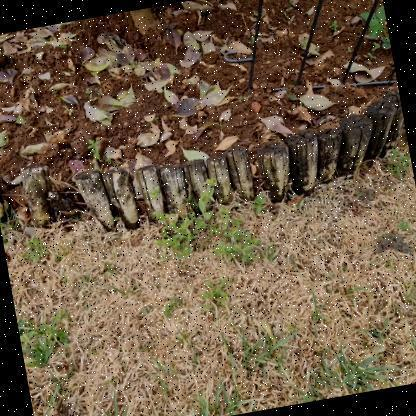Weeds: (144, 169, 263, 279), (17, 313, 72, 353), (196, 276, 231, 307), (382, 147, 413, 179), (363, 4, 389, 41), (21, 232, 50, 264), (86, 133, 108, 165), (161, 292, 187, 319), (298, 383, 332, 403), (252, 192, 270, 213)
